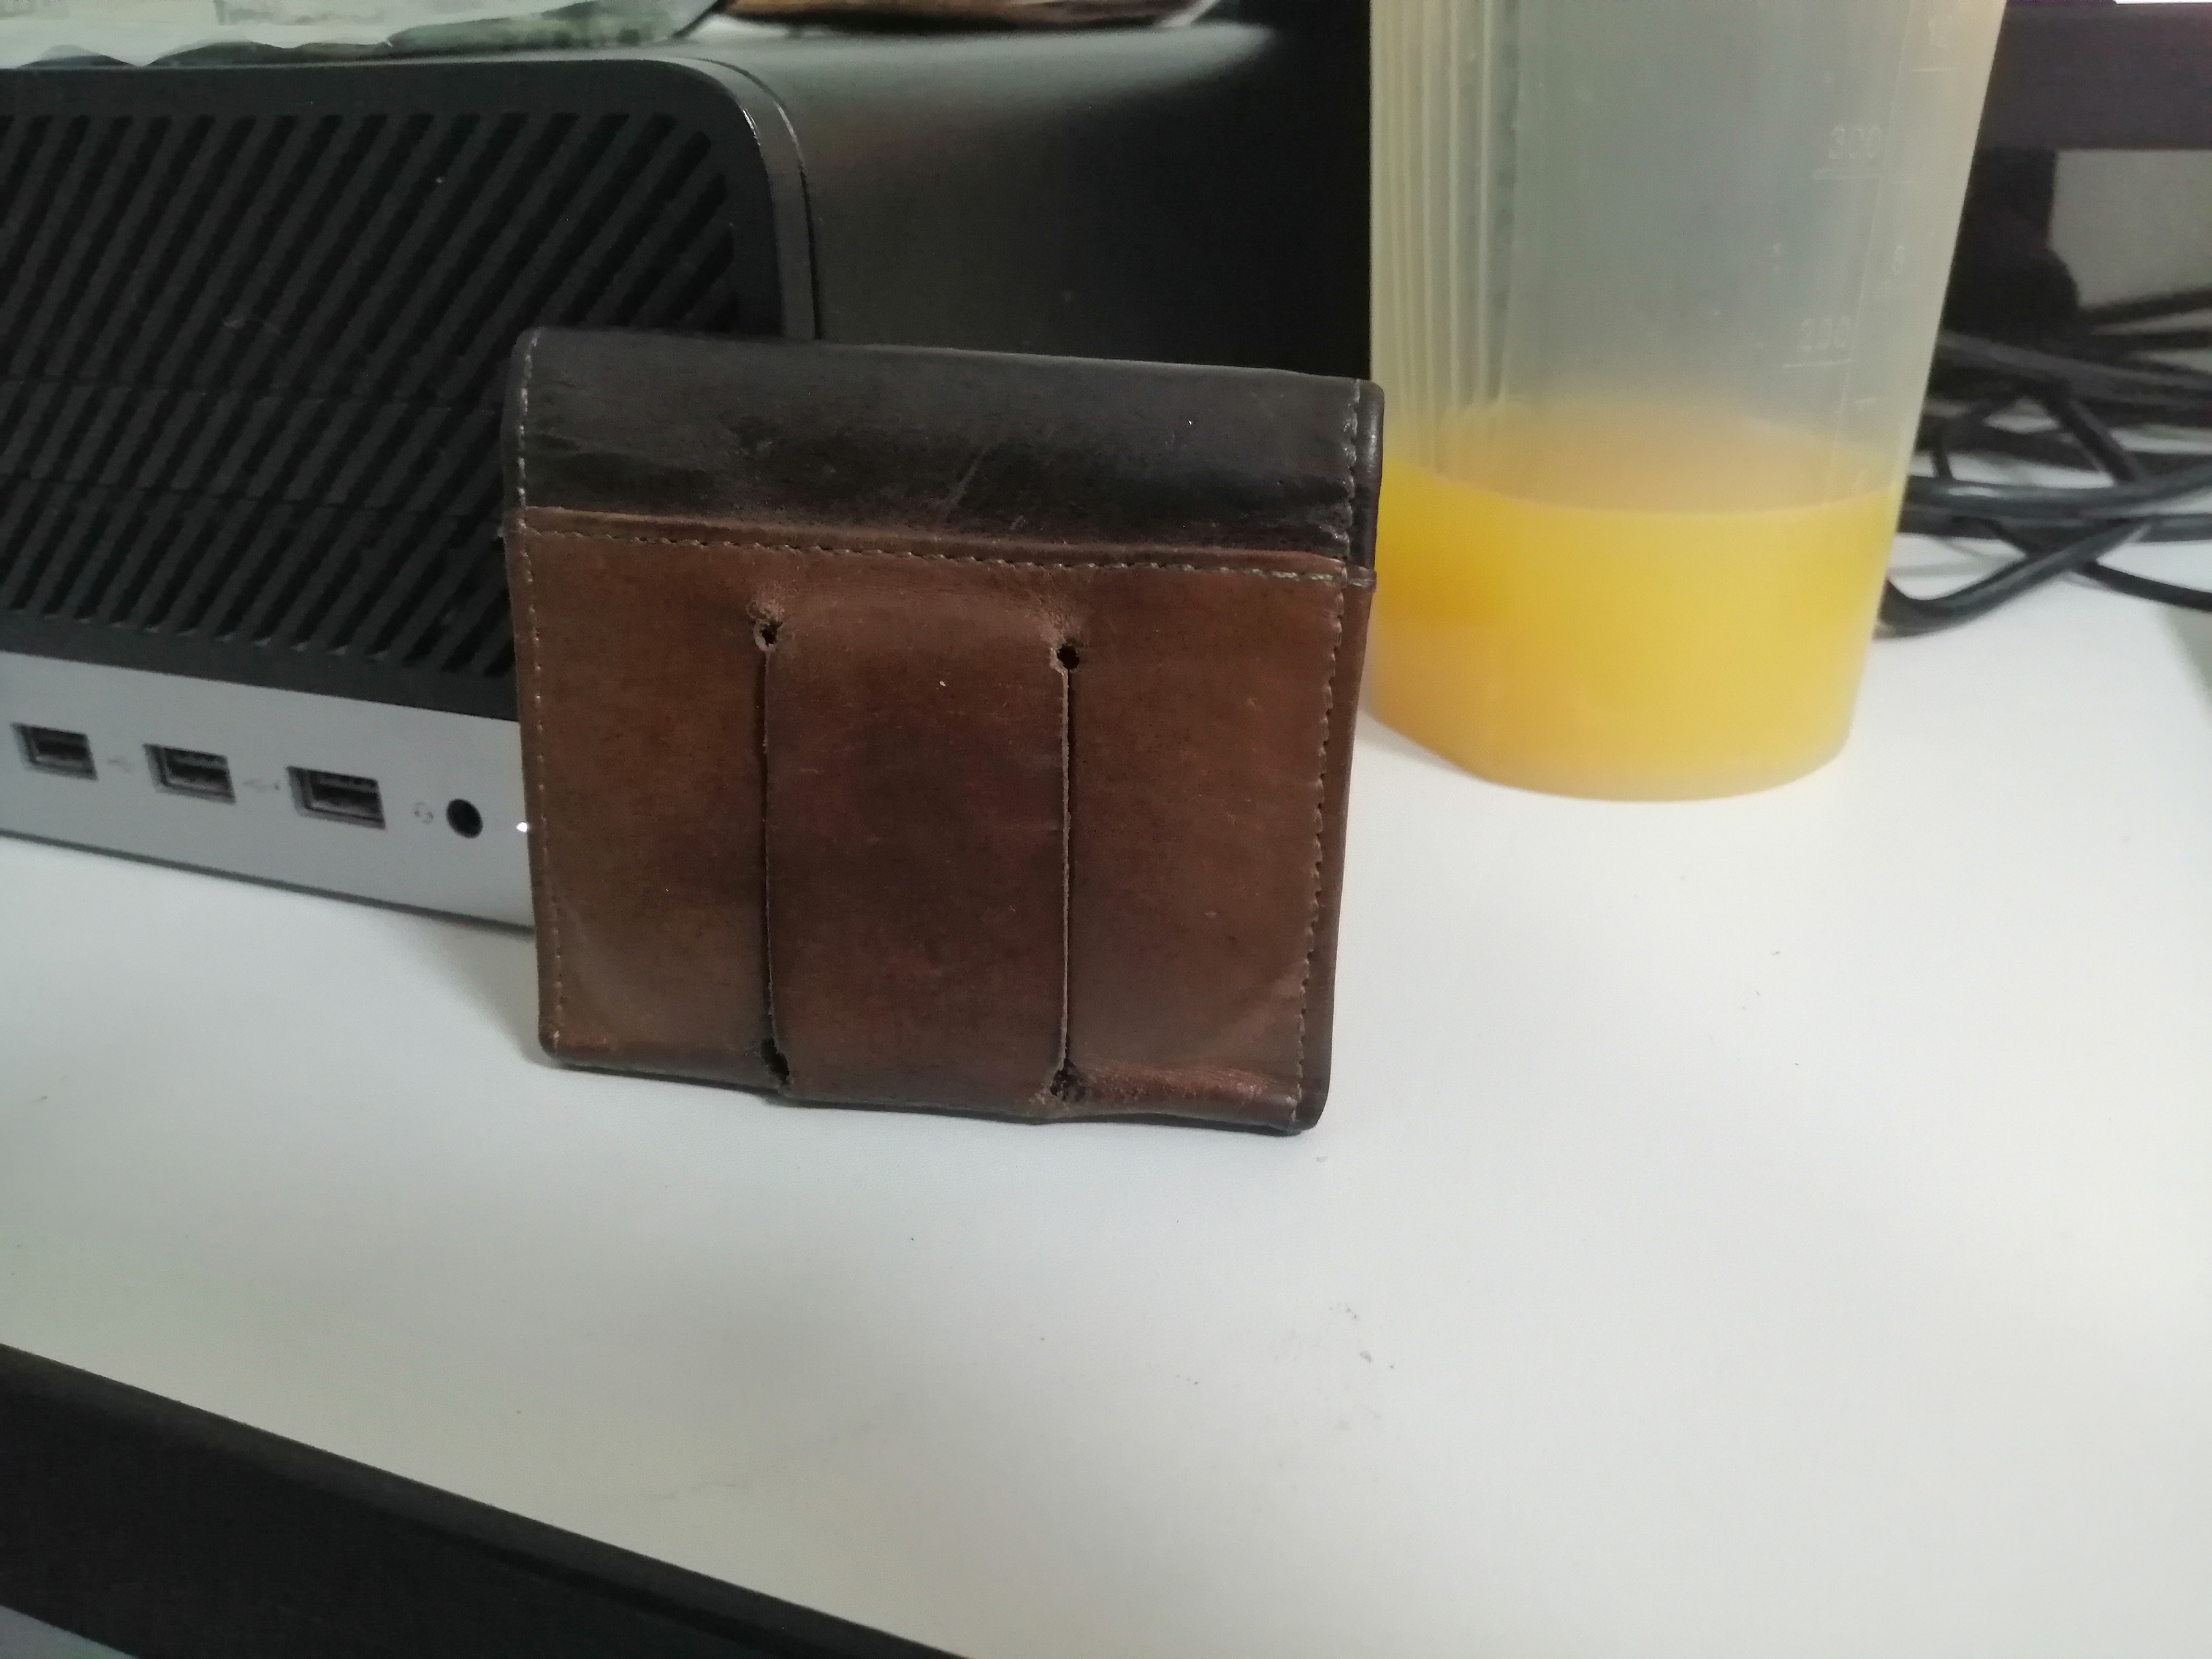monedero: (472, 315, 1400, 1183)
